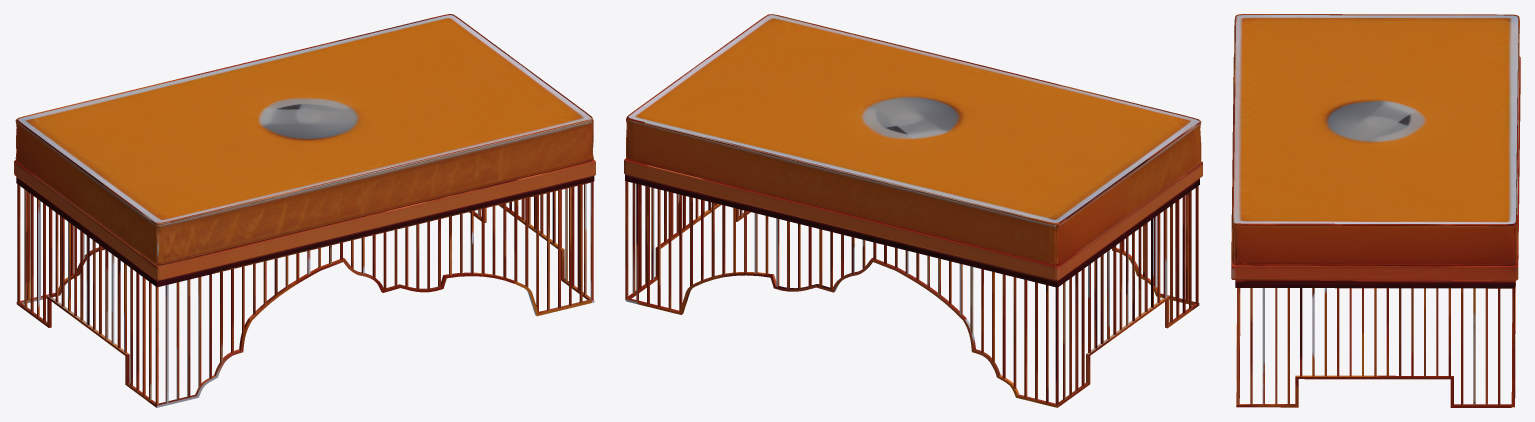
Rendered from edited_mesh.glb.
3 views of the same model, side by side, from view 1: azimuth 30°, elevation 25°; view 2: azimuth 150°, elevation 25°; view 3: azimuth 270°, elevation 25° (orthographic).
Parts seen in each view (by area): view 1: solid_001_wire; view 2: solid_001_wire; view 3: solid_001_wire.
Part boxes in pixels (x1,y1,x2,y2): solid_001_wire: [14, 14, 595, 407]; solid_001_wire: [624, 14, 1202, 407]; solid_001_wire: [1231, 14, 1520, 407].
Size of the model in its own units: 2 by 0.8071 by 1.16.
1 material, 1 textured.
